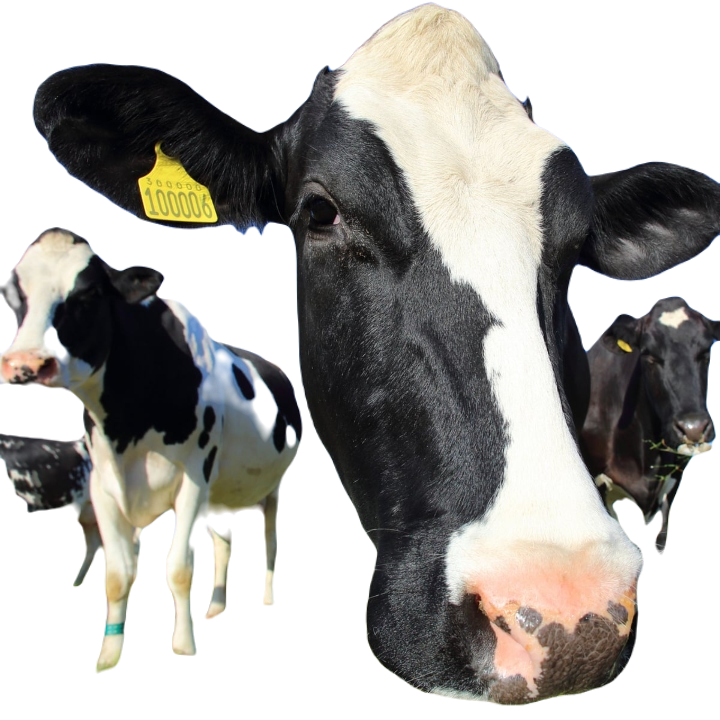Cow: (0, 226, 302, 666)
